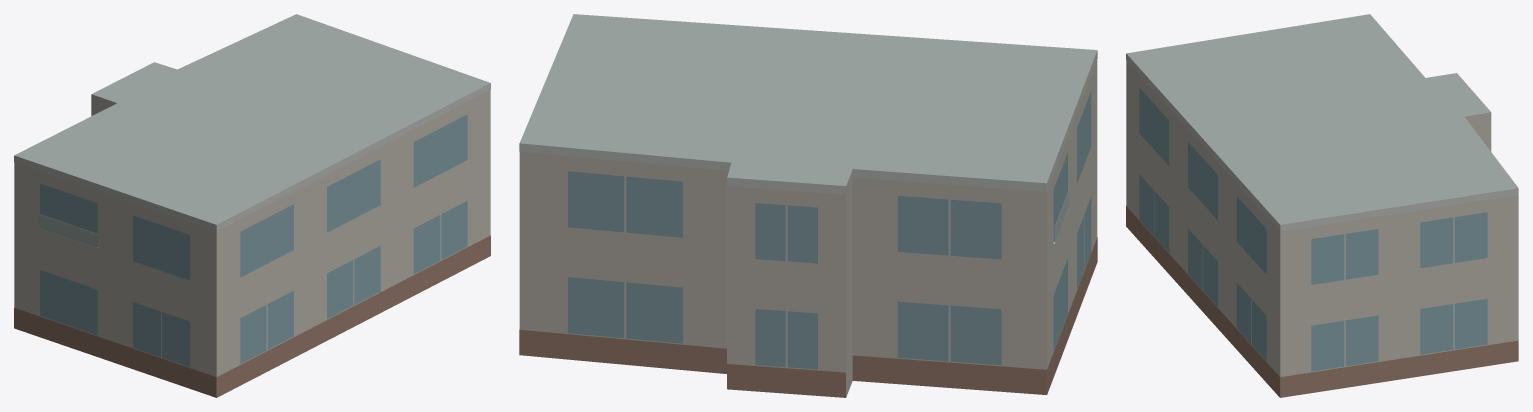
The model's file is survey-upis-32685160.glb.
3 views of the same model, side by side, from view 1: azimuth 30°, elevation 25°; view 2: azimuth 150°, elevation 25°; view 3: azimuth 270°, elevation 25° (orthographic). The views are drawn at different scales.
Visible parts, largest first — view 1: survey-upis-32685160.tmp; view 2: survey-upis-32685160.tmp; view 3: survey-upis-32685160.tmp.
Boxes of the visible parts, left/top/right/bottom form: survey-upis-32685160.tmp: left=14, top=14, right=490, bottom=397; survey-upis-32685160.tmp: left=519, top=14, right=1097, bottom=397; survey-upis-32685160.tmp: left=1126, top=14, right=1518, bottom=397.
Bounding box in the file's own units: 15.94 × 6.1 × 12.55.
